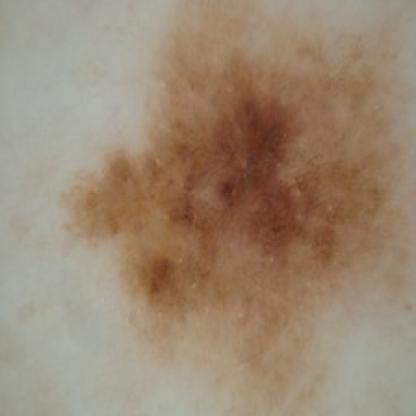malignant: (61, 26, 403, 306)
